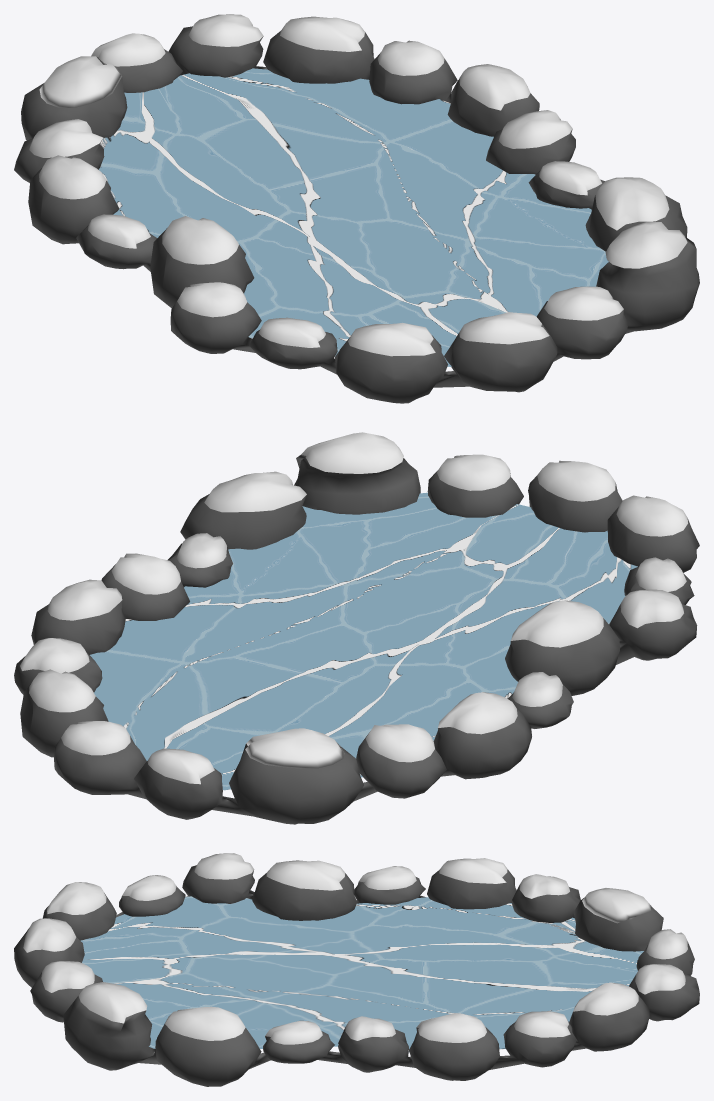
Rendered from pond.fbx.
The picture shows the model from 3 angles, top to bottom: view 1: azimuth 30°, elevation 25°; view 2: azimuth 150°, elevation 25°; view 3: azimuth 270°, elevation 25°; orthographic projection. The views are drawn at different scales.
Visible parts, largest first — view 1: rocks, pond; view 2: rocks, pond; view 3: rocks, pond.
Part boxes in pixels (x1,y1,x2,y2): rocks: (14, 14, 699, 403); pond: (99, 68, 608, 366); rocks: (14, 432, 699, 824); pond: (90, 492, 637, 790); rocks: (14, 853, 699, 1086); pond: (80, 896, 643, 1051).
Bounding box in the file's own units: 808 × 142 × 1190.
3 materials, 1 textured.
